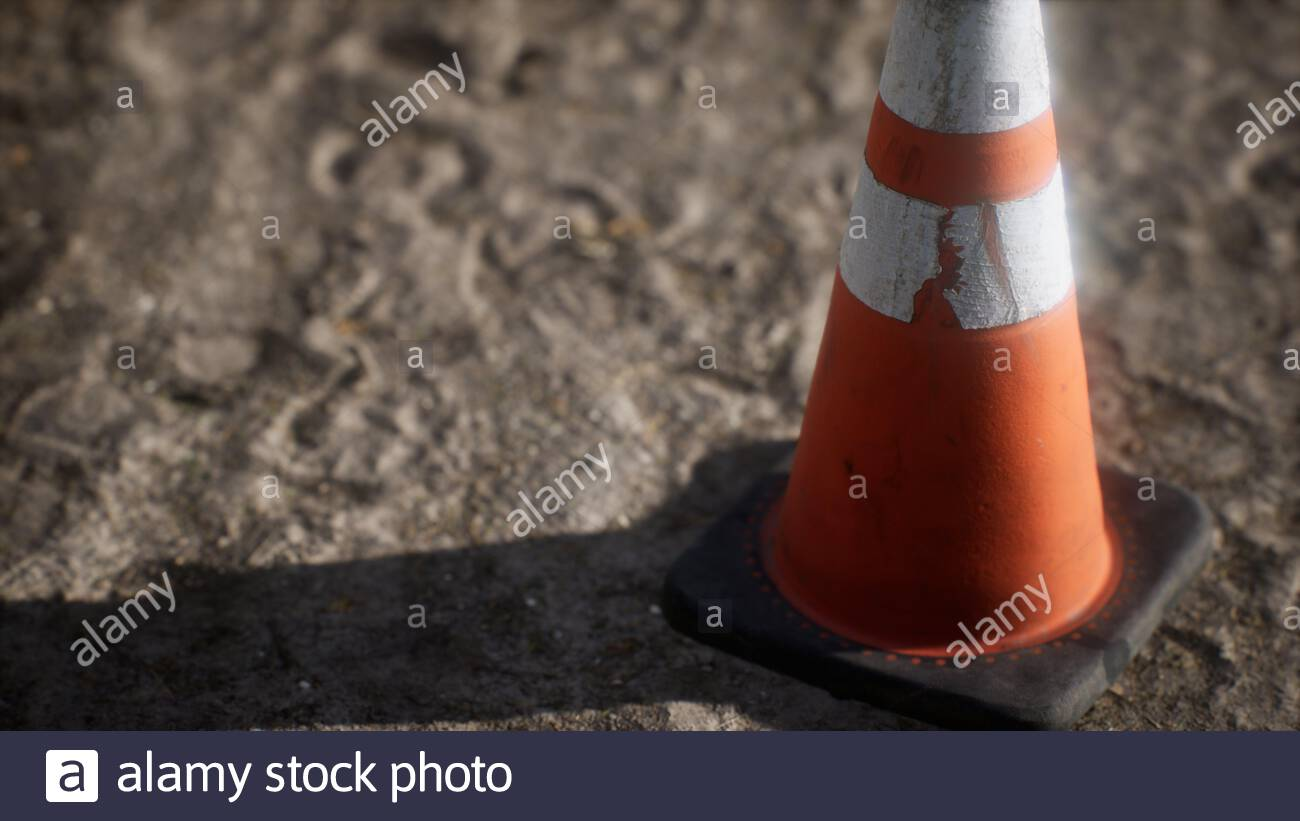cones: (676, 4, 1221, 726)
